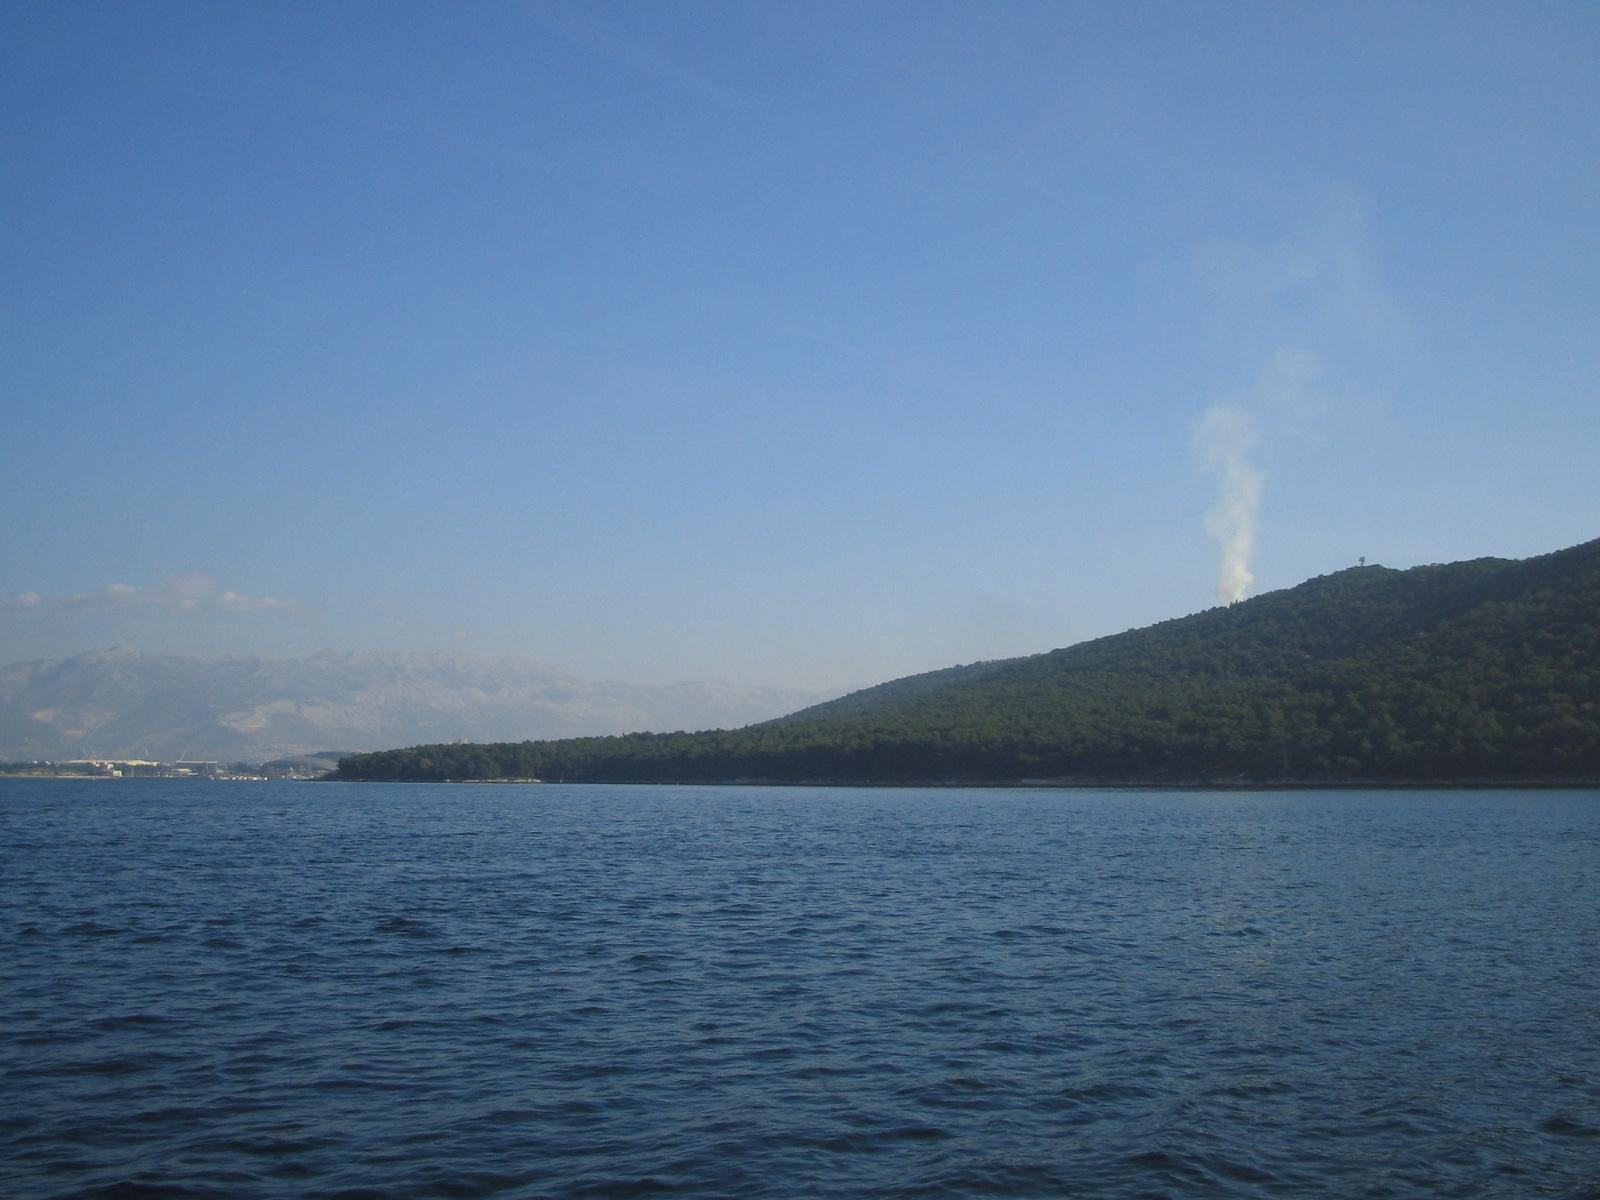Smoke: (1184, 384, 1266, 608)
